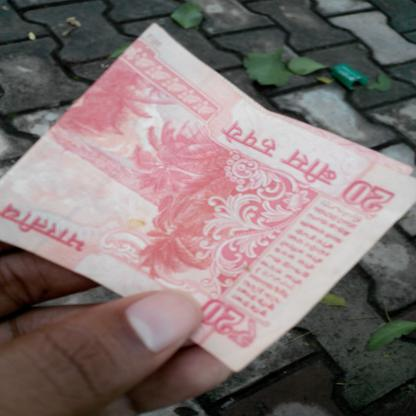Old20Back: (4, 46, 398, 341)
